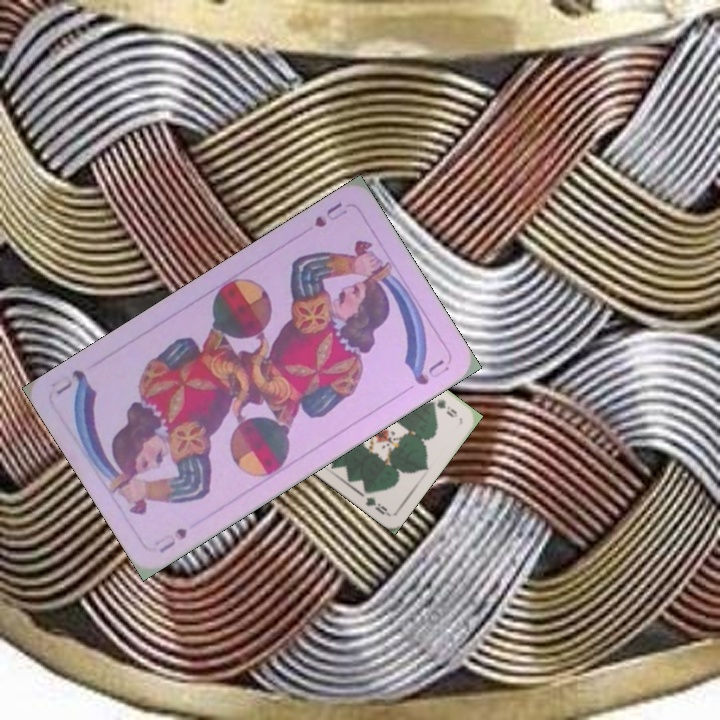G9: (426, 395, 460, 420)
SU: (150, 523, 190, 556), (310, 198, 350, 230)
